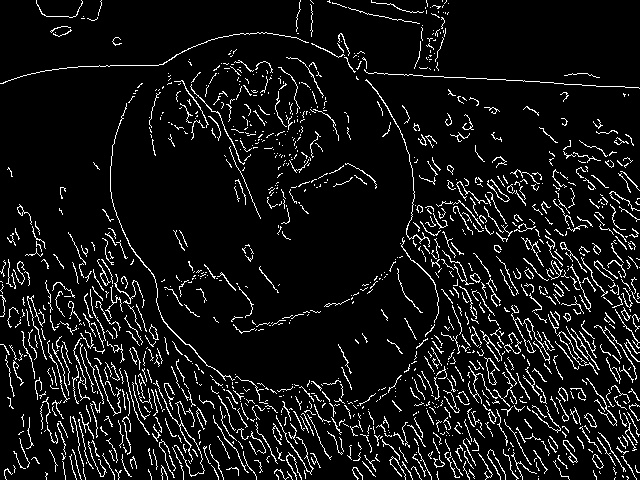onion: (95, 27, 423, 330)
